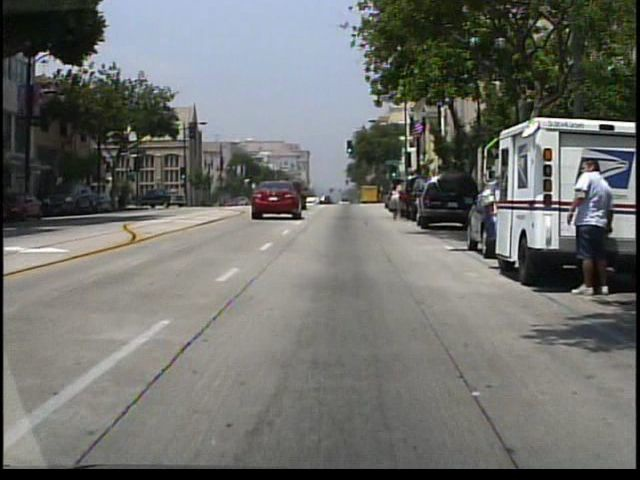person: (563, 160, 610, 295), (386, 176, 408, 222)
